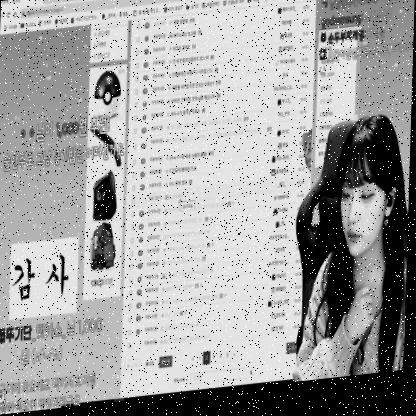donation: (0, 314, 104, 416), (3, 114, 125, 171)
streamer: (293, 119, 412, 388)
